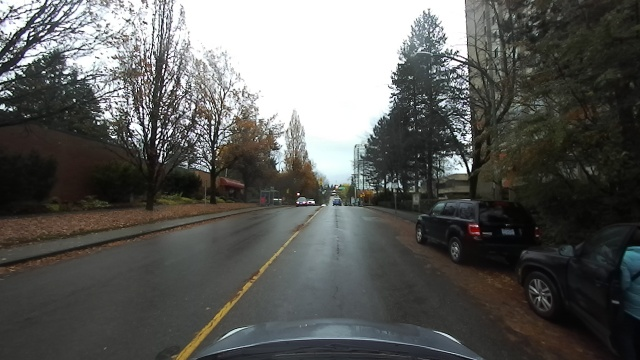car: (506, 221, 640, 353), (408, 196, 544, 272), (293, 196, 310, 207), (330, 195, 345, 206)
